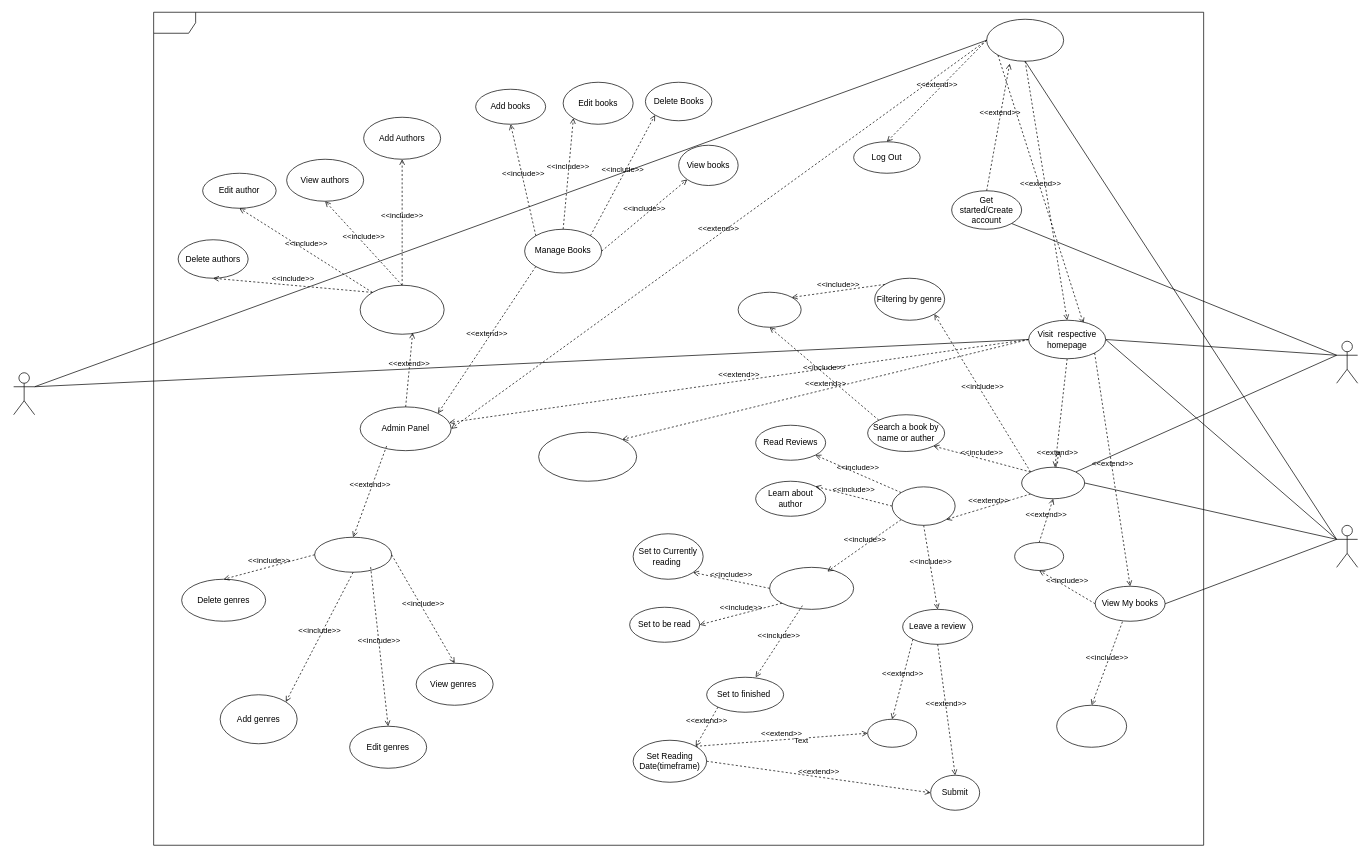
The diagram is 1370 pixels wide and 858 high, and some of its shapes have lost their labels. The box of each missing label's shape, as (x1, y1, x2, y2) in pixels:
Add Book: (1014, 542, 1064, 570)
Admin: (13, 372, 35, 415)
Book details page: (891, 486, 955, 525)
Browse Catalog: (1021, 467, 1085, 499)
Cancel: (867, 719, 917, 747)
Clear search: (737, 292, 801, 327)
Guest: (1336, 341, 1358, 383)
Log In: (986, 19, 1064, 61)
Manage Authors: (359, 285, 444, 334)
Manage genres: (314, 537, 392, 572)
Remove Book(x): (1056, 705, 1127, 747)
See statistics: (538, 432, 637, 481)
Set status/Update status: (769, 567, 854, 609)
User: (1336, 525, 1358, 567)
